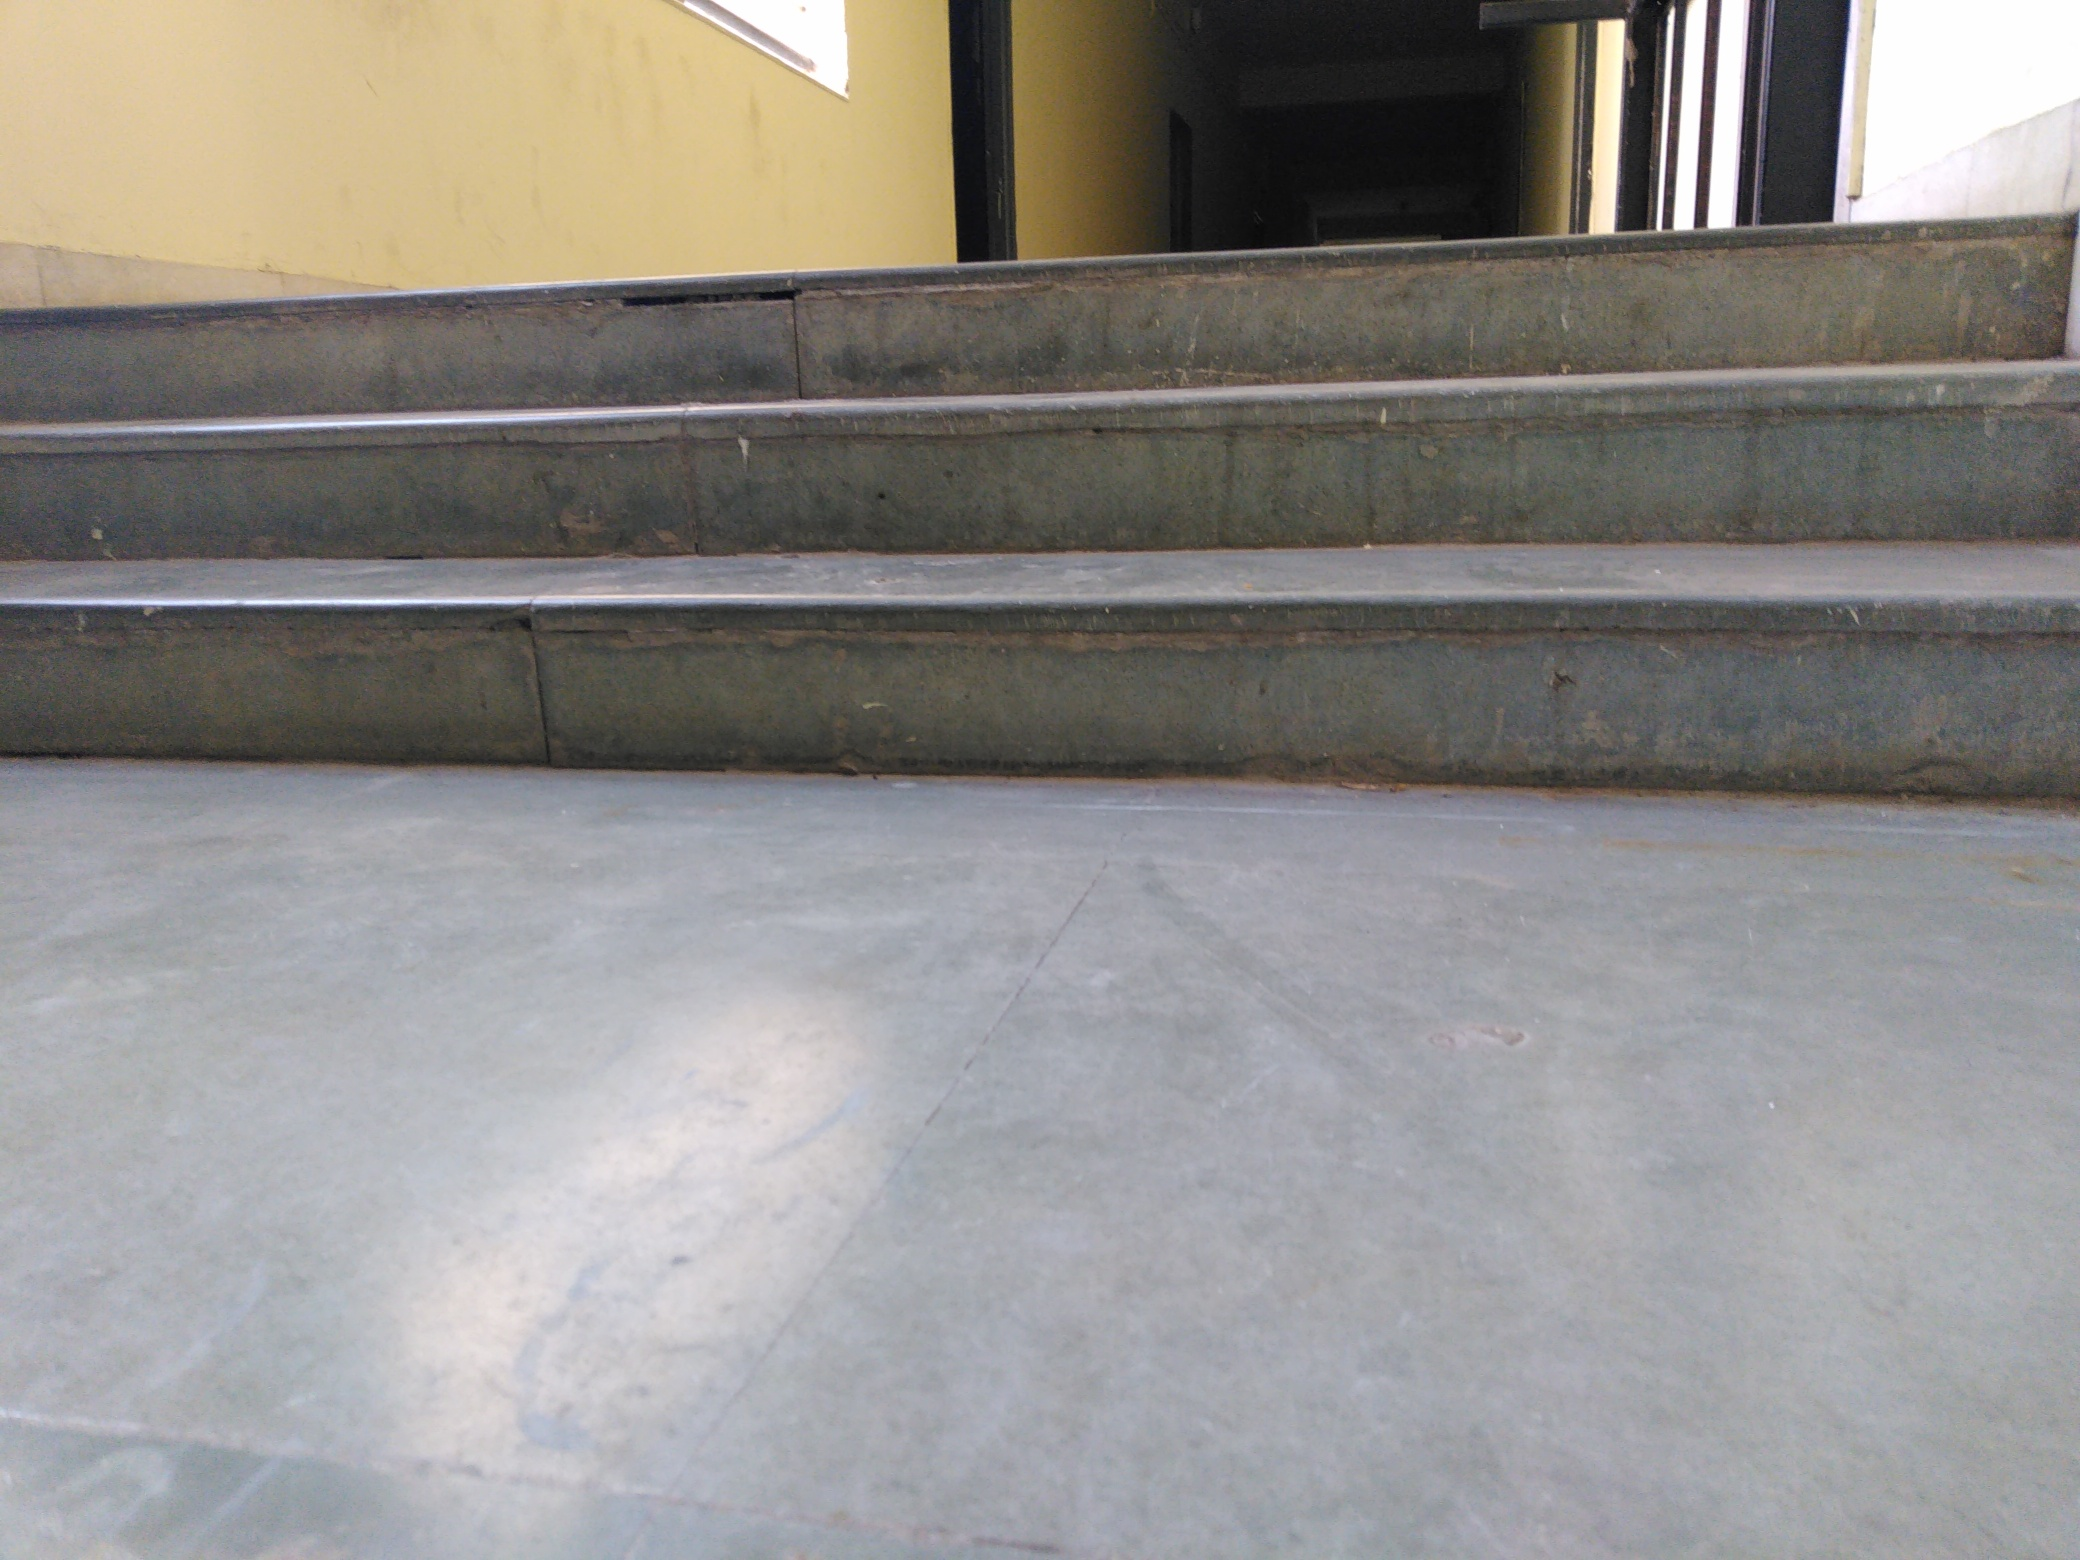stairs_up: (11, 215, 2065, 751)
